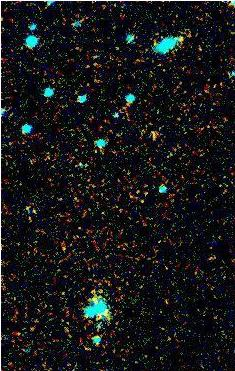star: (165, 22, 195, 52)
